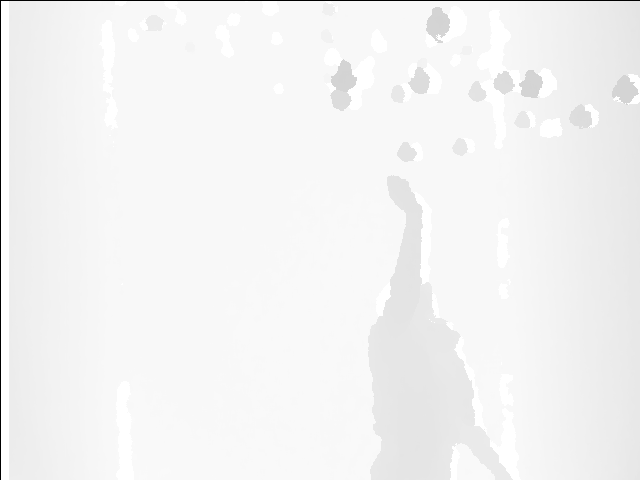hand: (385, 171, 424, 221)
